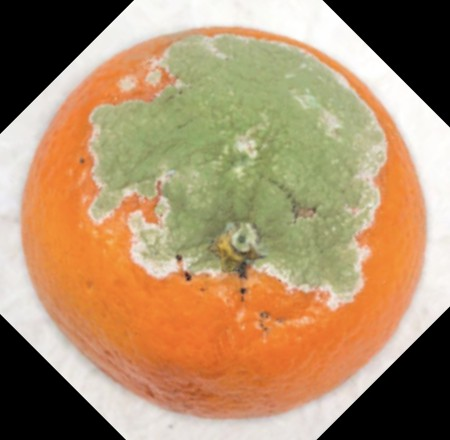rotten_orange: (22, 26, 429, 419)
